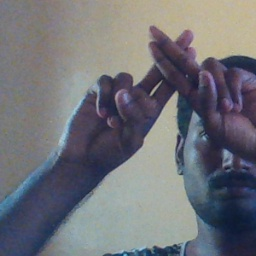F: (129, 22, 228, 130)
